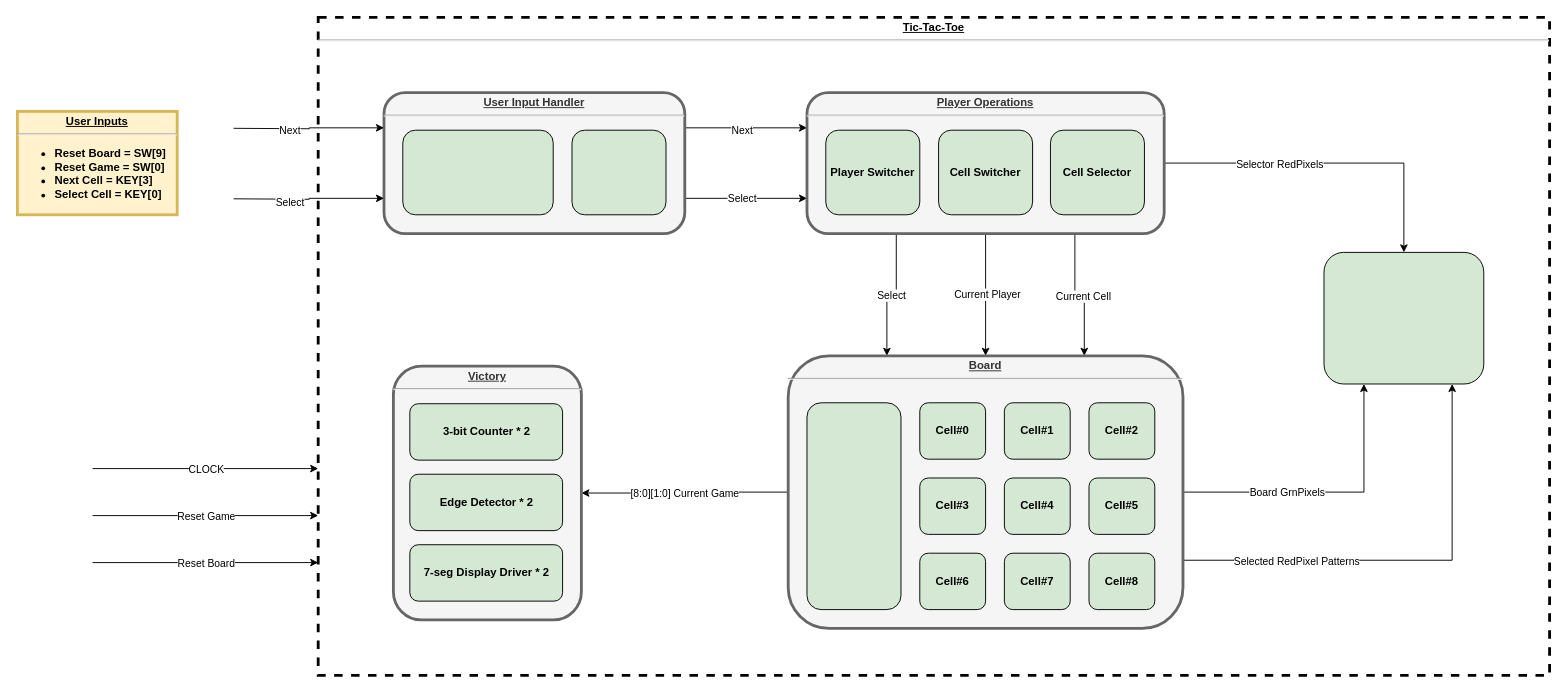
This 1567x693 diagram has some shape labels left out. The centre of each missing label's shape, as x and y in pixels:
"2 D-flip-flop Synchronizer" goes at (477,172).
"Edge Detector" goes at (618,172).
"Empty Board" goes at (853,506).
"LED Driver" goes at (1403,317).
